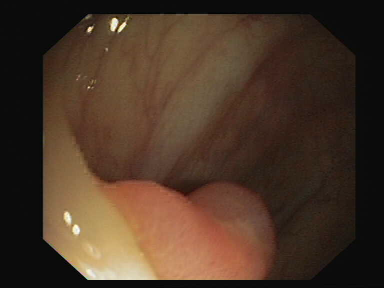polyp: (93, 131, 307, 283)
